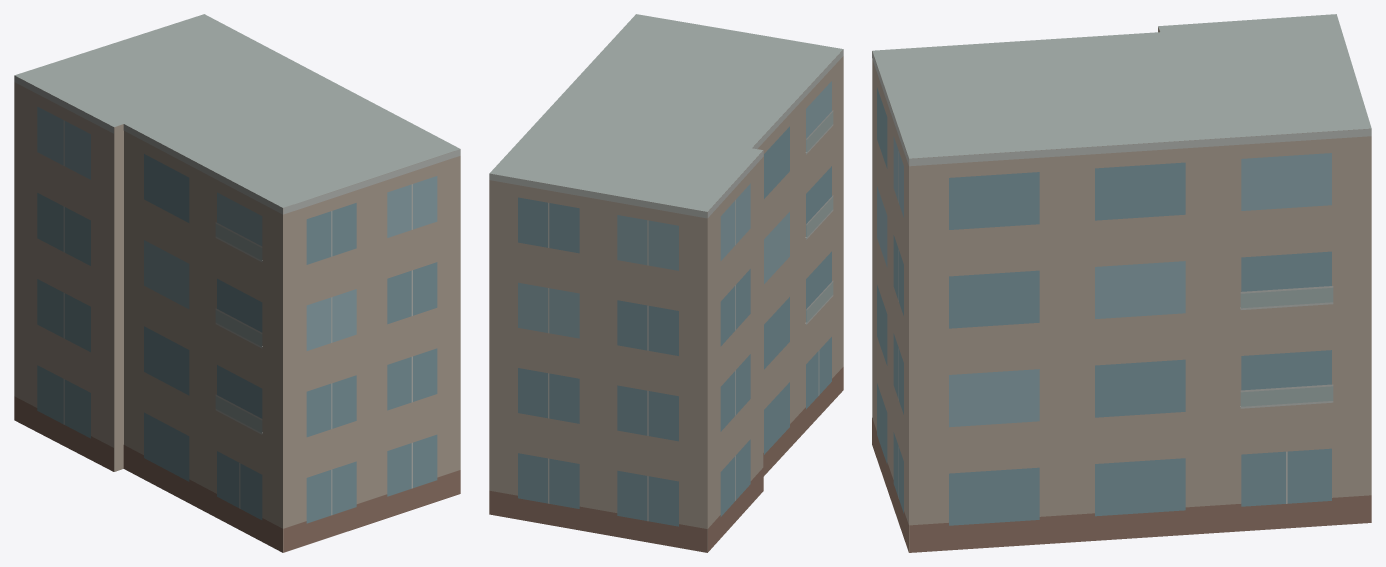
Rendered from survey-upis-32960868.glb.
The picture shows the model from 3 angles, left to right: view 1: azimuth 30°, elevation 25°; view 2: azimuth 150°, elevation 25°; view 3: azimuth 270°, elevation 25°; orthographic projection. The views are drawn at different scales.
Parts seen in each view (by area): view 1: survey-upis-32960868.tmp; view 2: survey-upis-32960868.tmp; view 3: survey-upis-32960868.tmp.
Boxes of the visible parts, box(x1,y1,x2,y2) form: survey-upis-32960868.tmp: box(14, 14, 460, 552); survey-upis-32960868.tmp: box(489, 14, 843, 552); survey-upis-32960868.tmp: box(872, 14, 1371, 552).
Size of the model in its own units: 9.93 by 12.6 by 14.48.
